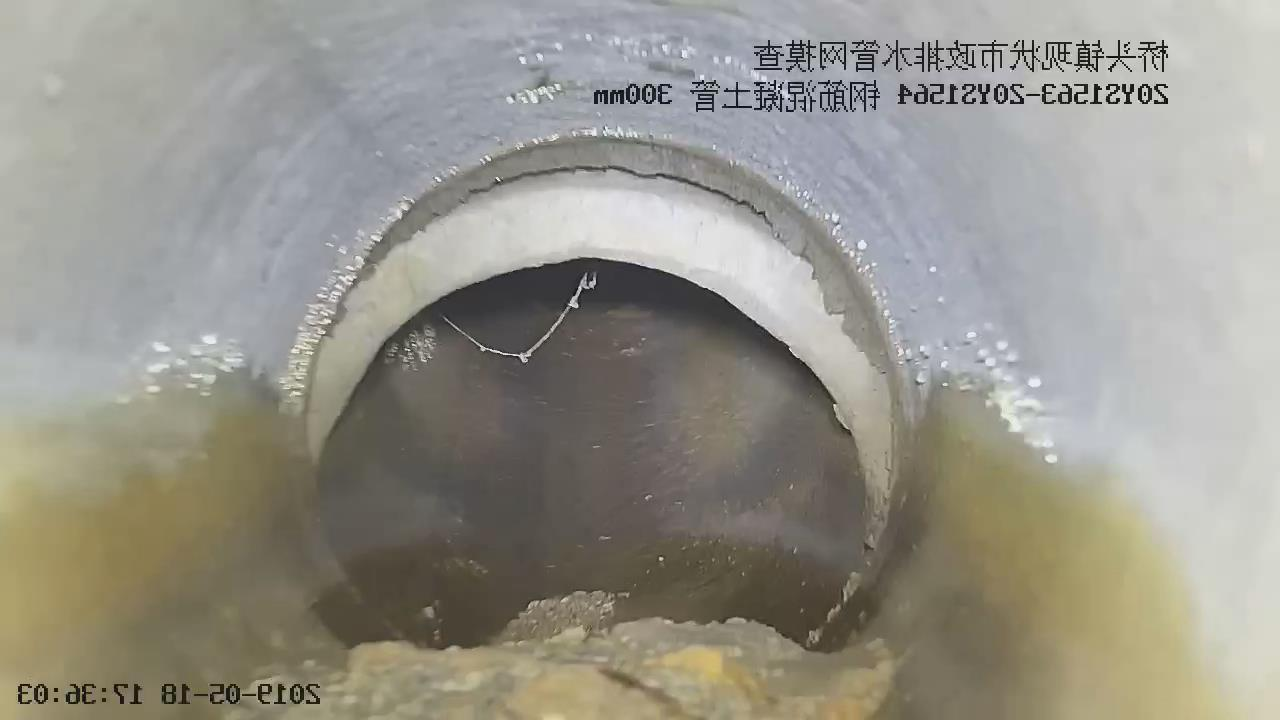CKTJ: (281, 134, 918, 551)
